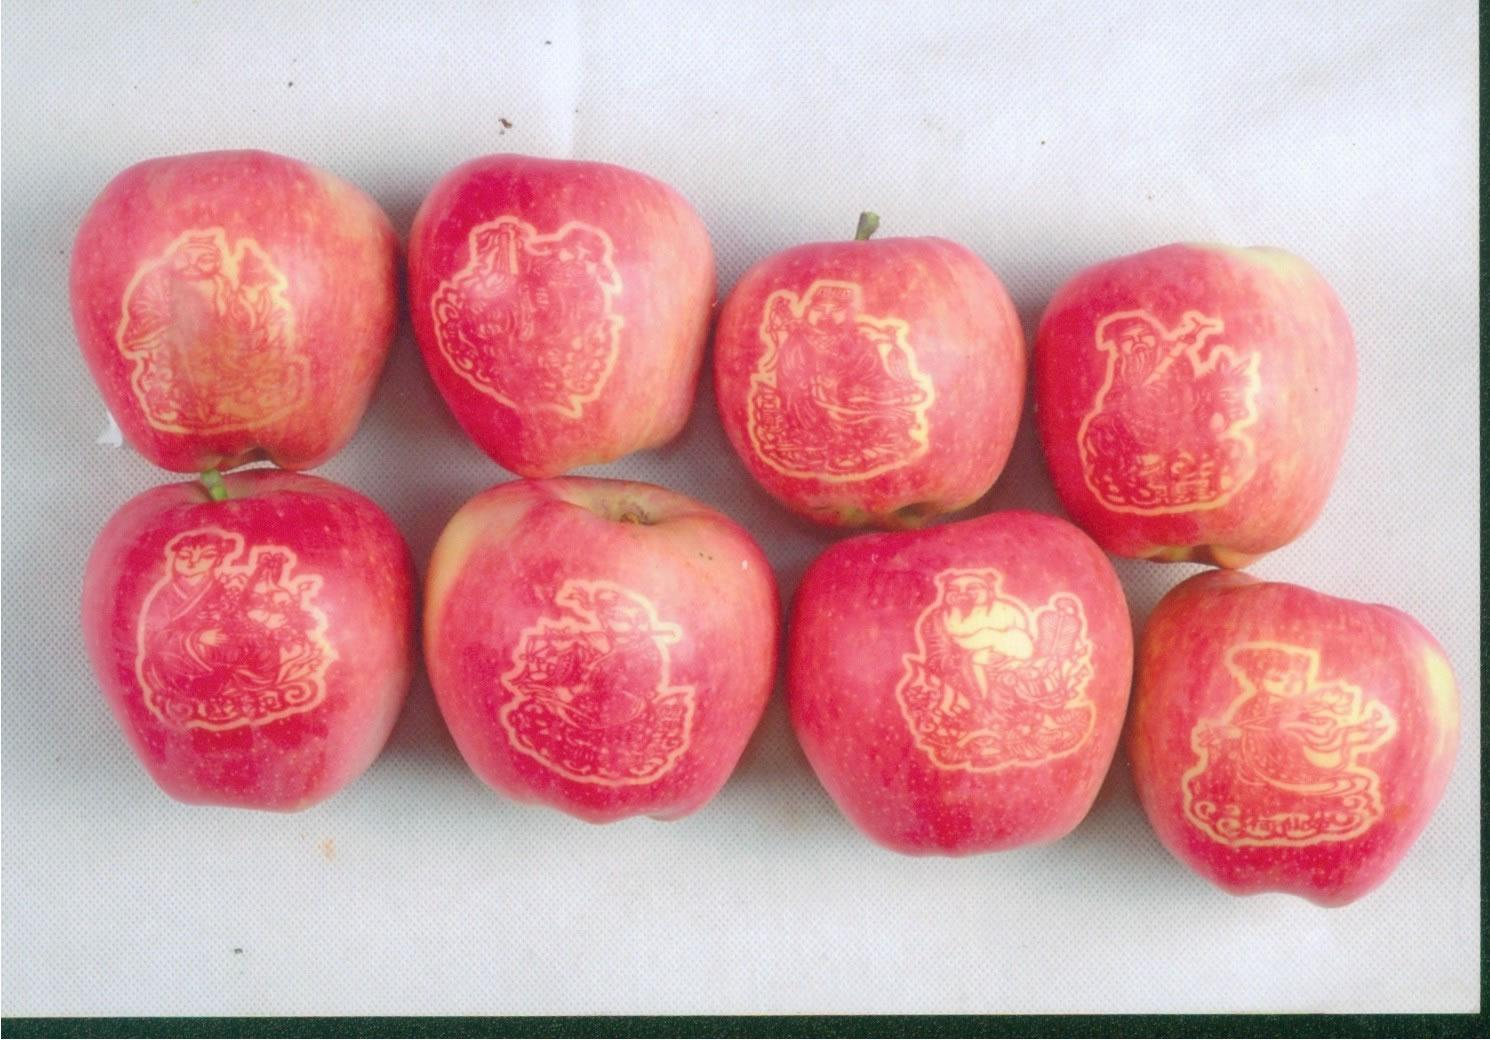apple: (420, 463, 783, 822), (778, 502, 1137, 860), (76, 465, 417, 823), (1127, 569, 1461, 909), (65, 147, 405, 478), (1013, 237, 1334, 573), (403, 151, 719, 475), (710, 221, 1019, 543)
